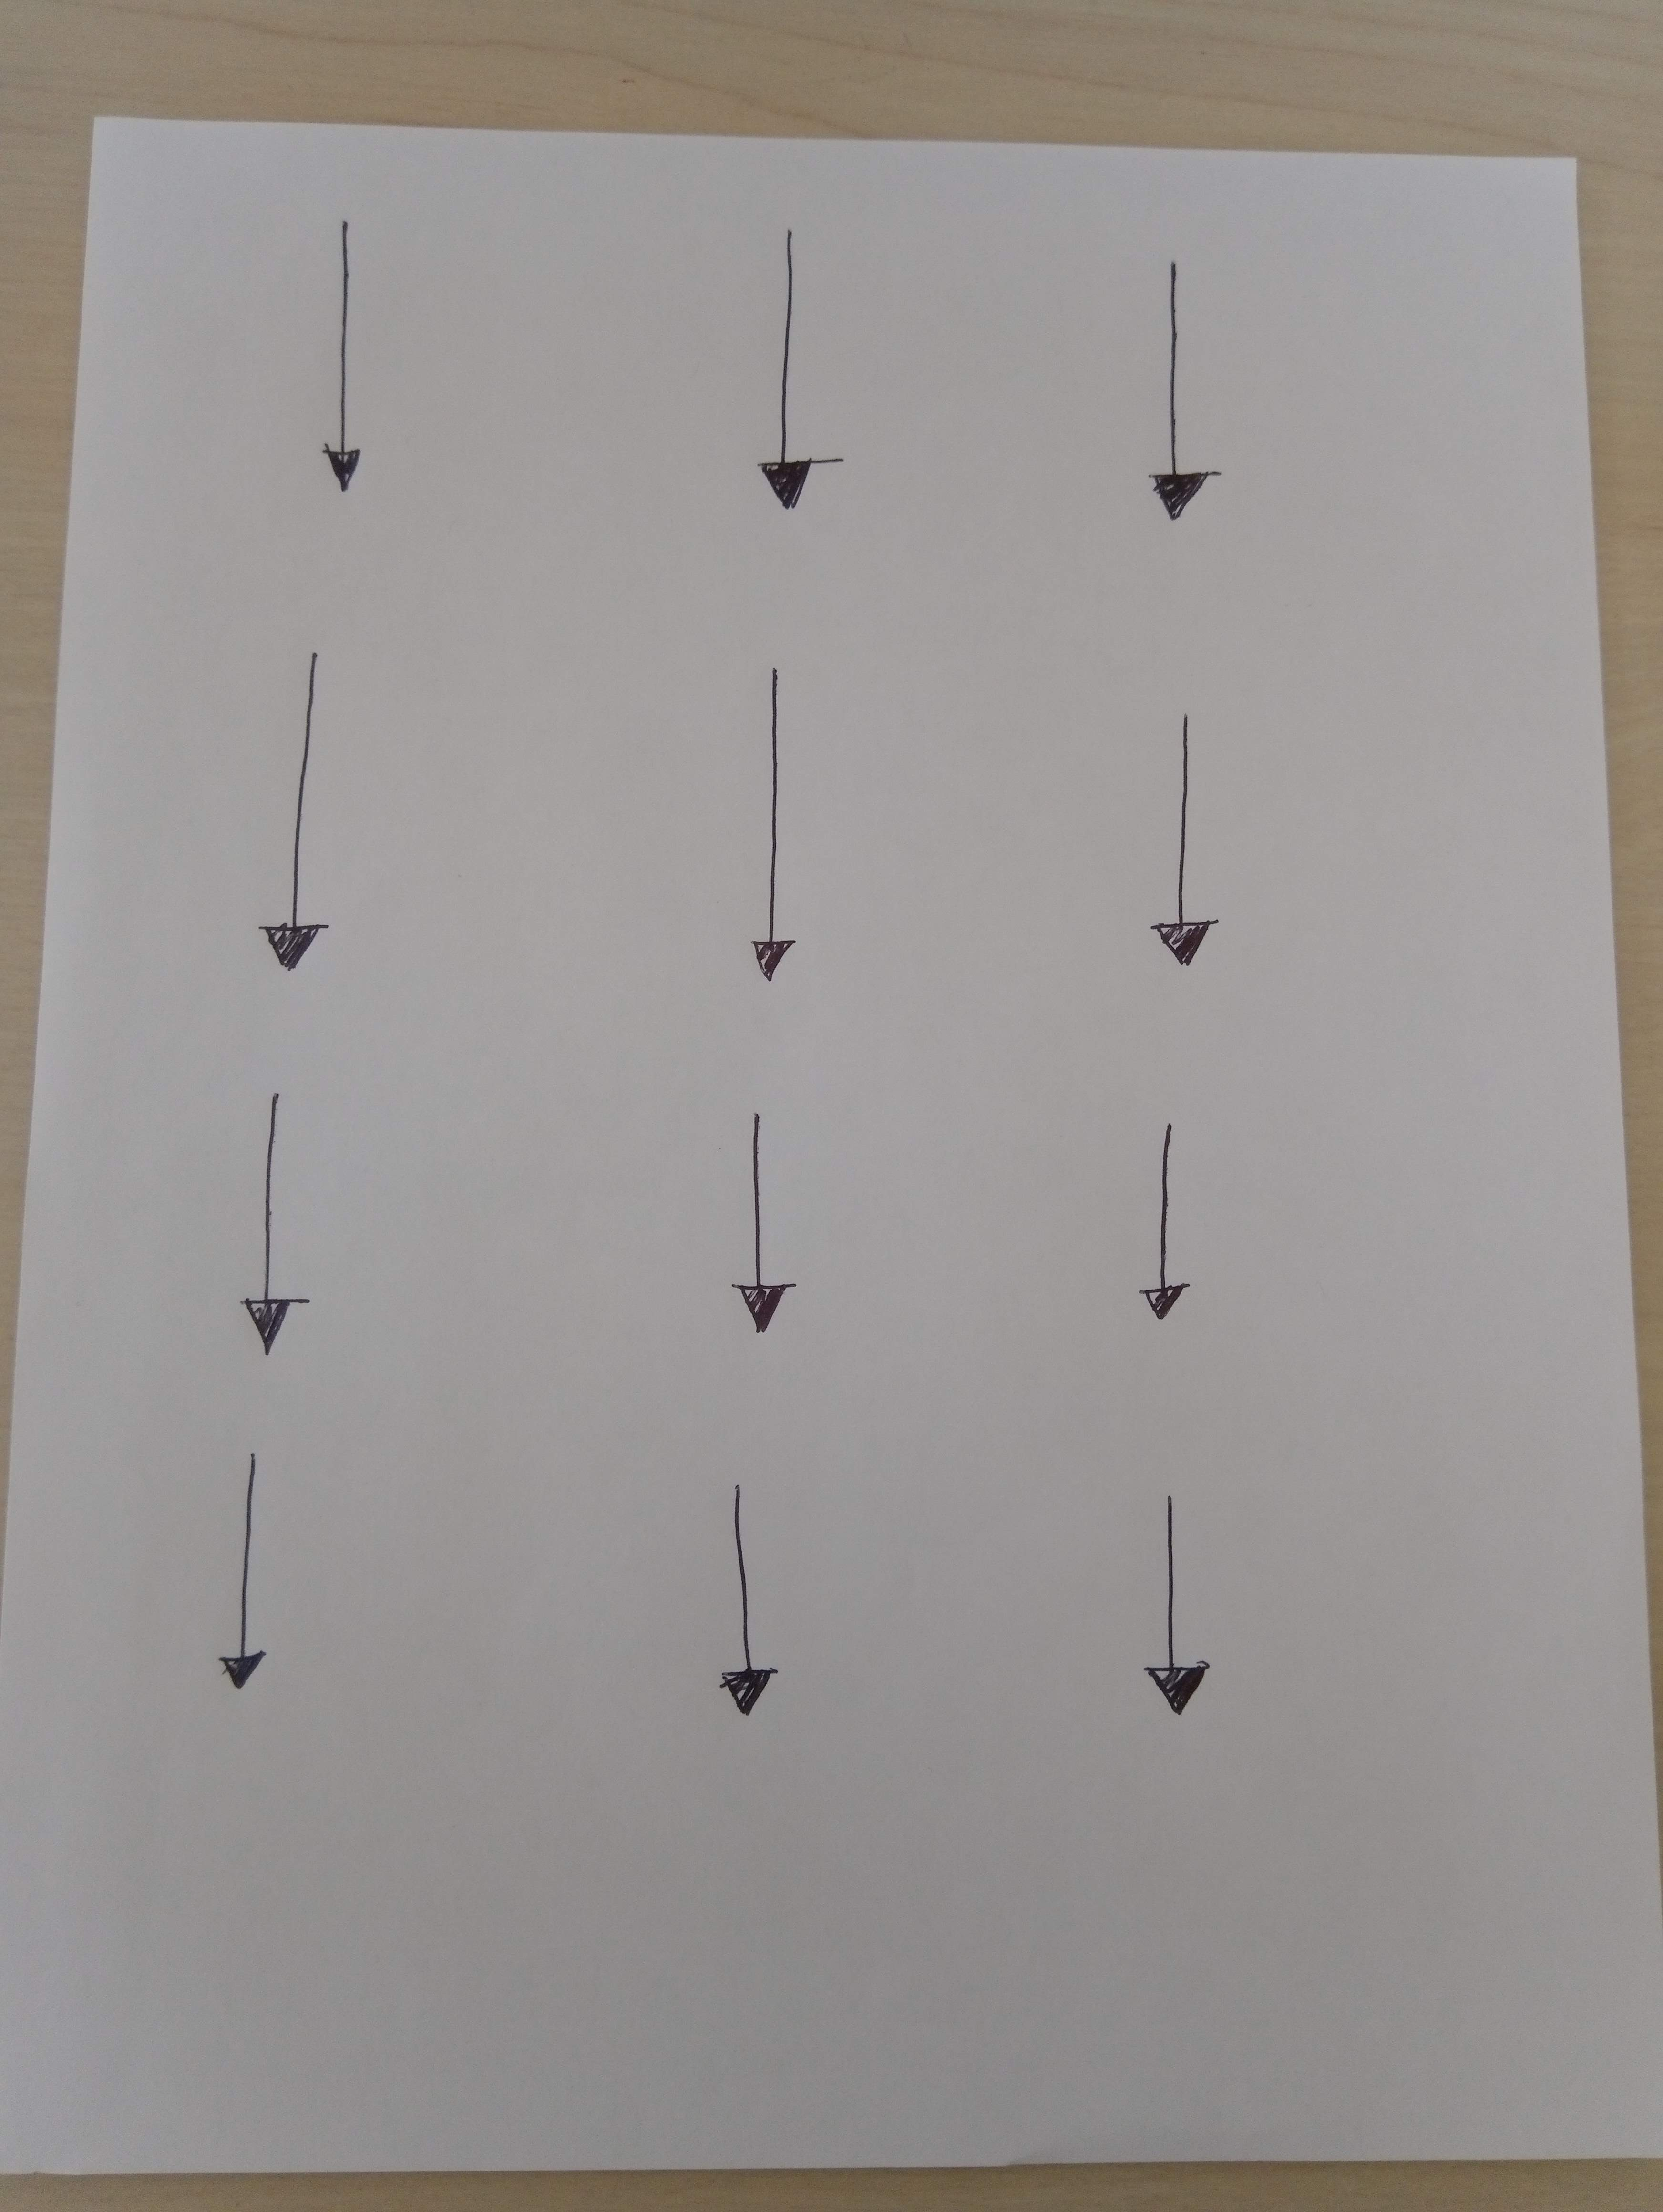arrow_line_down: (283, 201, 412, 508), (239, 646, 353, 979), (716, 663, 825, 1002), (739, 210, 845, 526), (231, 1096, 353, 1357), (204, 1440, 318, 1713), (1146, 695, 1249, 985), (1132, 1474, 1240, 1748), (699, 1479, 825, 1713), (713, 1093, 807, 1370), (1128, 269, 1219, 543), (1120, 1119, 1228, 1348)
